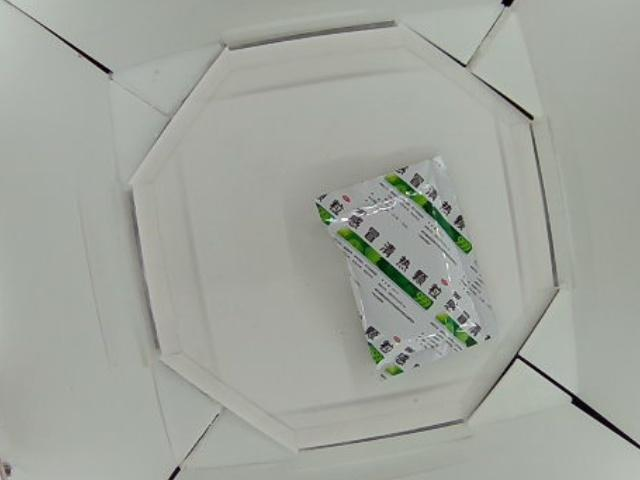Medicine: (311, 152, 501, 382)
